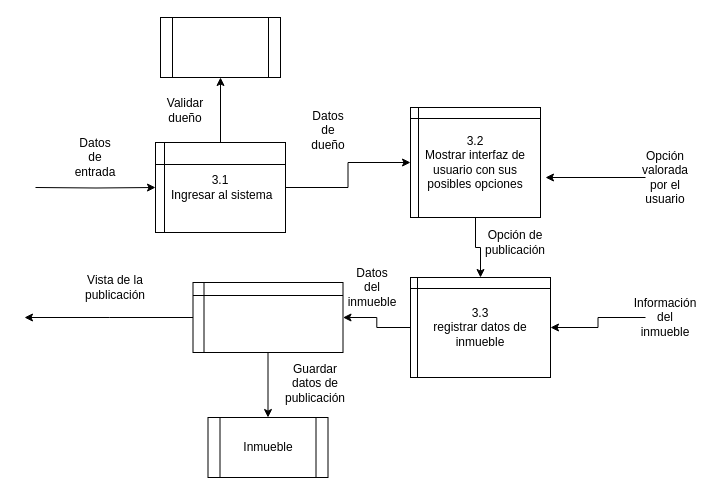
Some shapes in this 714 by 495 pixel diagram are drawn without their labels. Here are the shapes that lost their labels. From the top down, the centre of each, then its label:
At point (220, 47): "Dueños".
At point (267, 317): "3.4 Verificar información".
